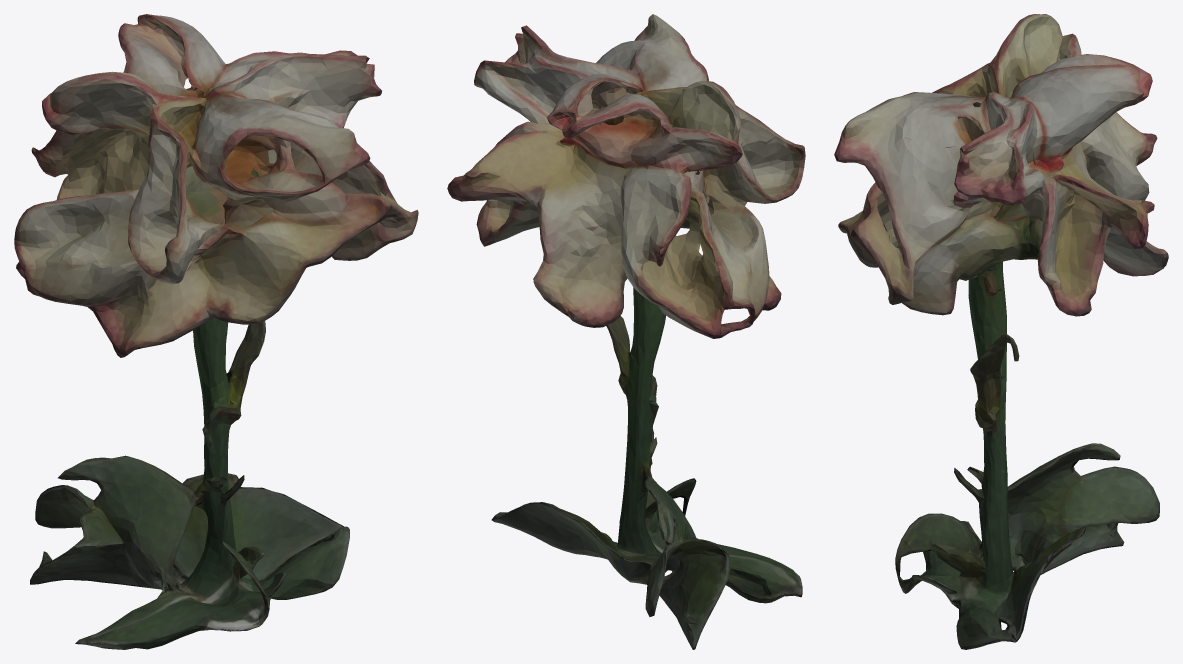
3 renders of one model, left to right at view 1: azimuth 30°, elevation 25°; view 2: azimuth 150°, elevation 25°; view 3: azimuth 270°, elevation 25°, orthographic. The views are drawn at different scales.
Parts seen in each view (by area): view 1: world; view 2: world; view 3: world.
Part boxes in pixels (<box>): world: <box>14,14,418,649</box>; world: <box>447,14,805,649</box>; world: <box>834,14,1168,649</box>.
Bounding box in the file's own units: 0.5675 × 0.945 × 0.5256.
Materials: 1 (1 with a texture image).
